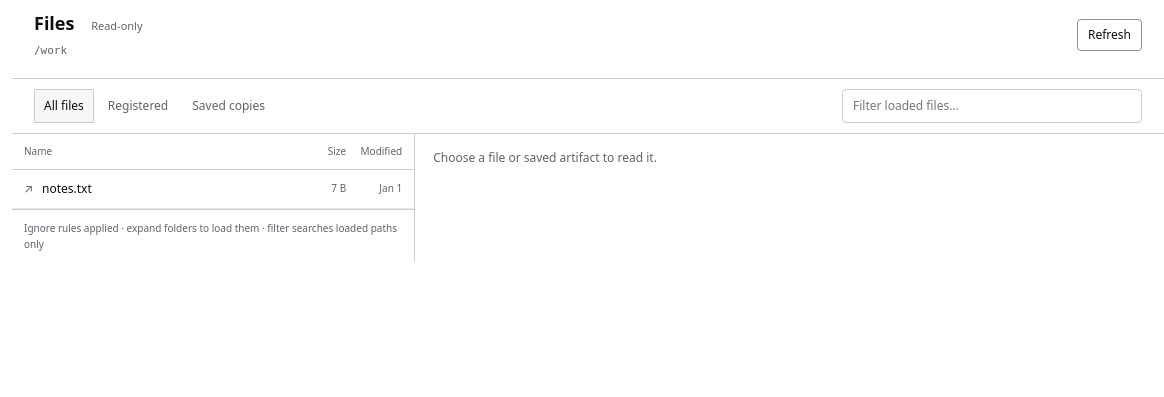
Test case: does not fetch targets that cannot be read: symlink
The width and height of the screenshot is (1164, 397).
Click the button "↗ notes.txt 7 B Jan 1" at {"x": 67, "y": 188}, box [12,170,414,208]
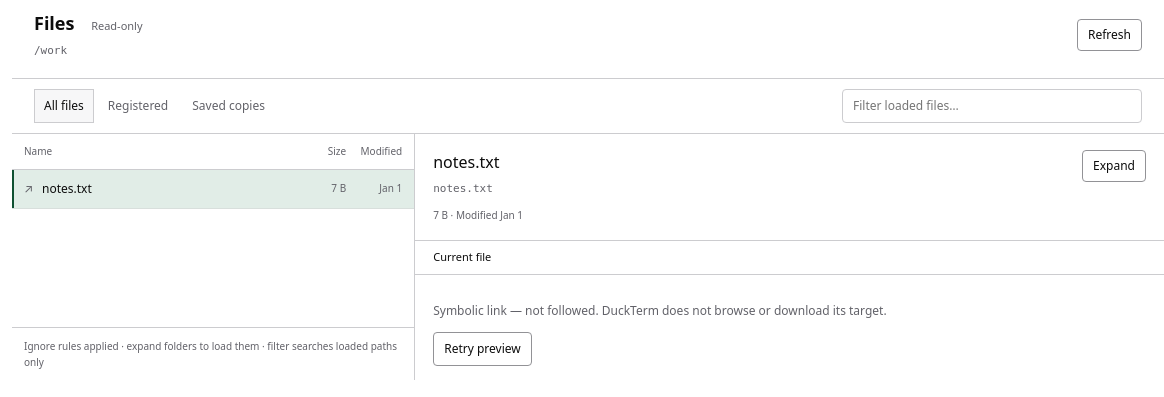
Expected: the text "Symbolic link — not followed" is shown, [433,302,887,319]
